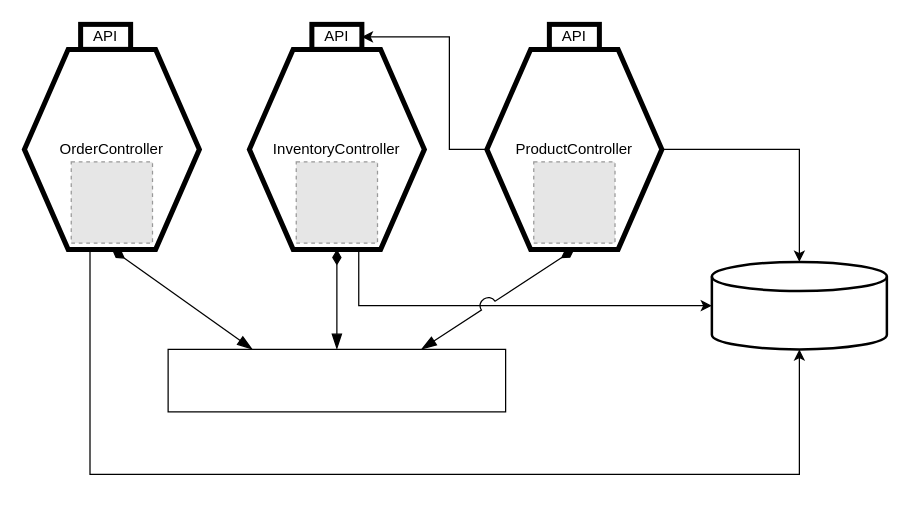
Image size: 909x506. Some labels were removed from this diagram. Grey dashed boxes stand in for pictures. The shapes that lost their labels are listed below. From the top down, each one's centre as x and y in pixels, then its label:
At point (799, 305): "H2 DB".
At point (336, 380): "common (Library jar)".
